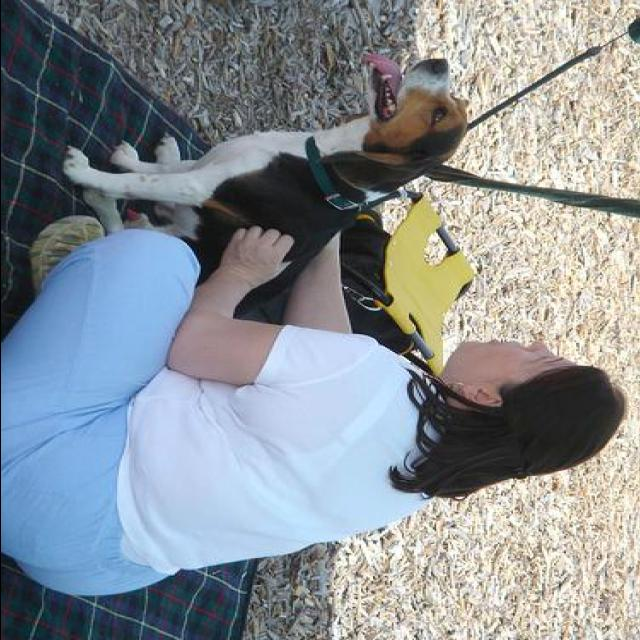beagle: (62, 55, 466, 321)
